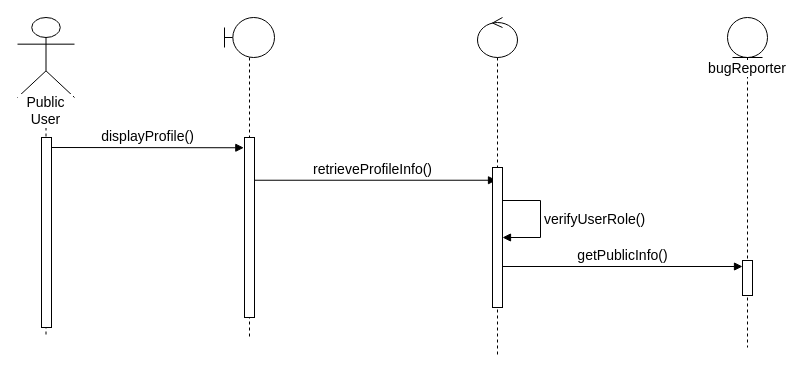
This 804x375 diagram has some shape labels left out. Each missing label, with the centre of its shape:
"profileGUI" belongs at (249,177).
"viewProfile" belongs at (497,187).
